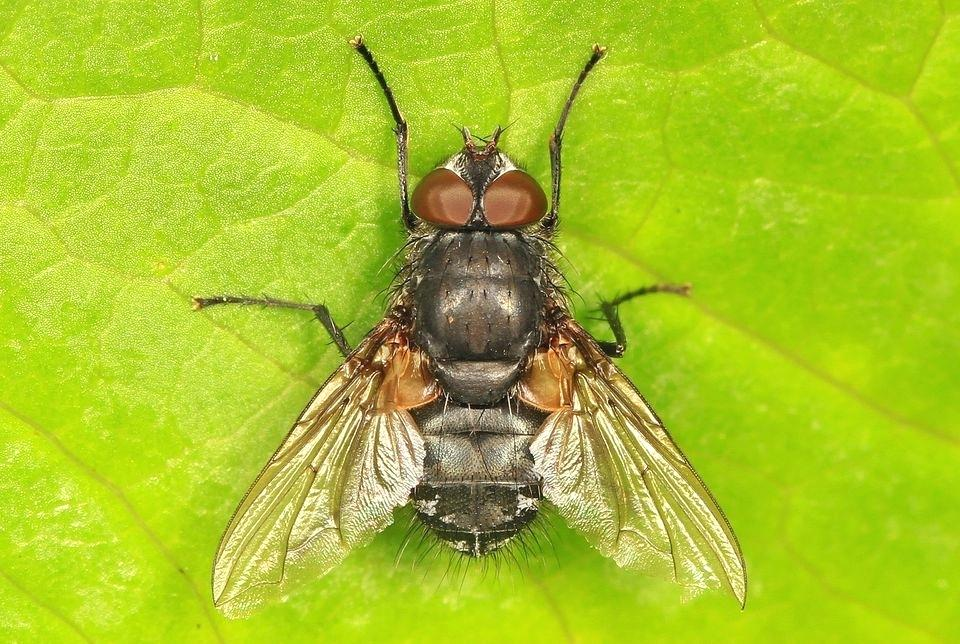house fly: (165, 31, 761, 625)
